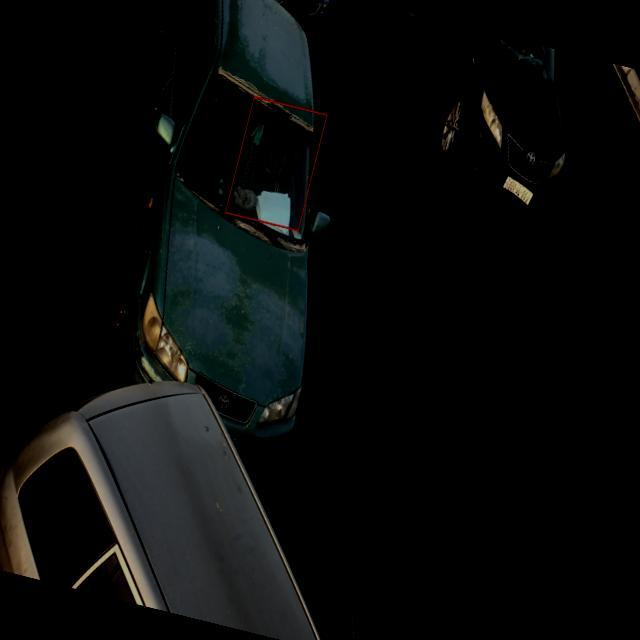windshield: (163, 56, 338, 254)
